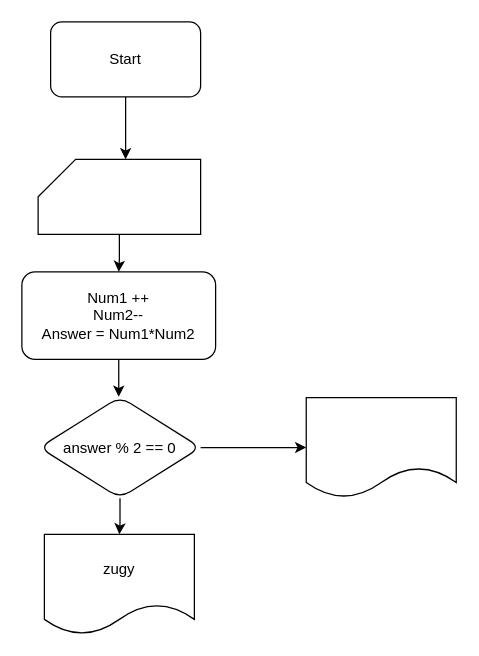
Image size: 479x656. Some labels were removed from this diagram. The box of each missing label's shape, as (x1, y1, x2, y2) in pixels:
ai zugy: (305, 396, 456, 498)
Num1, Num2: (37, 158, 201, 234)
